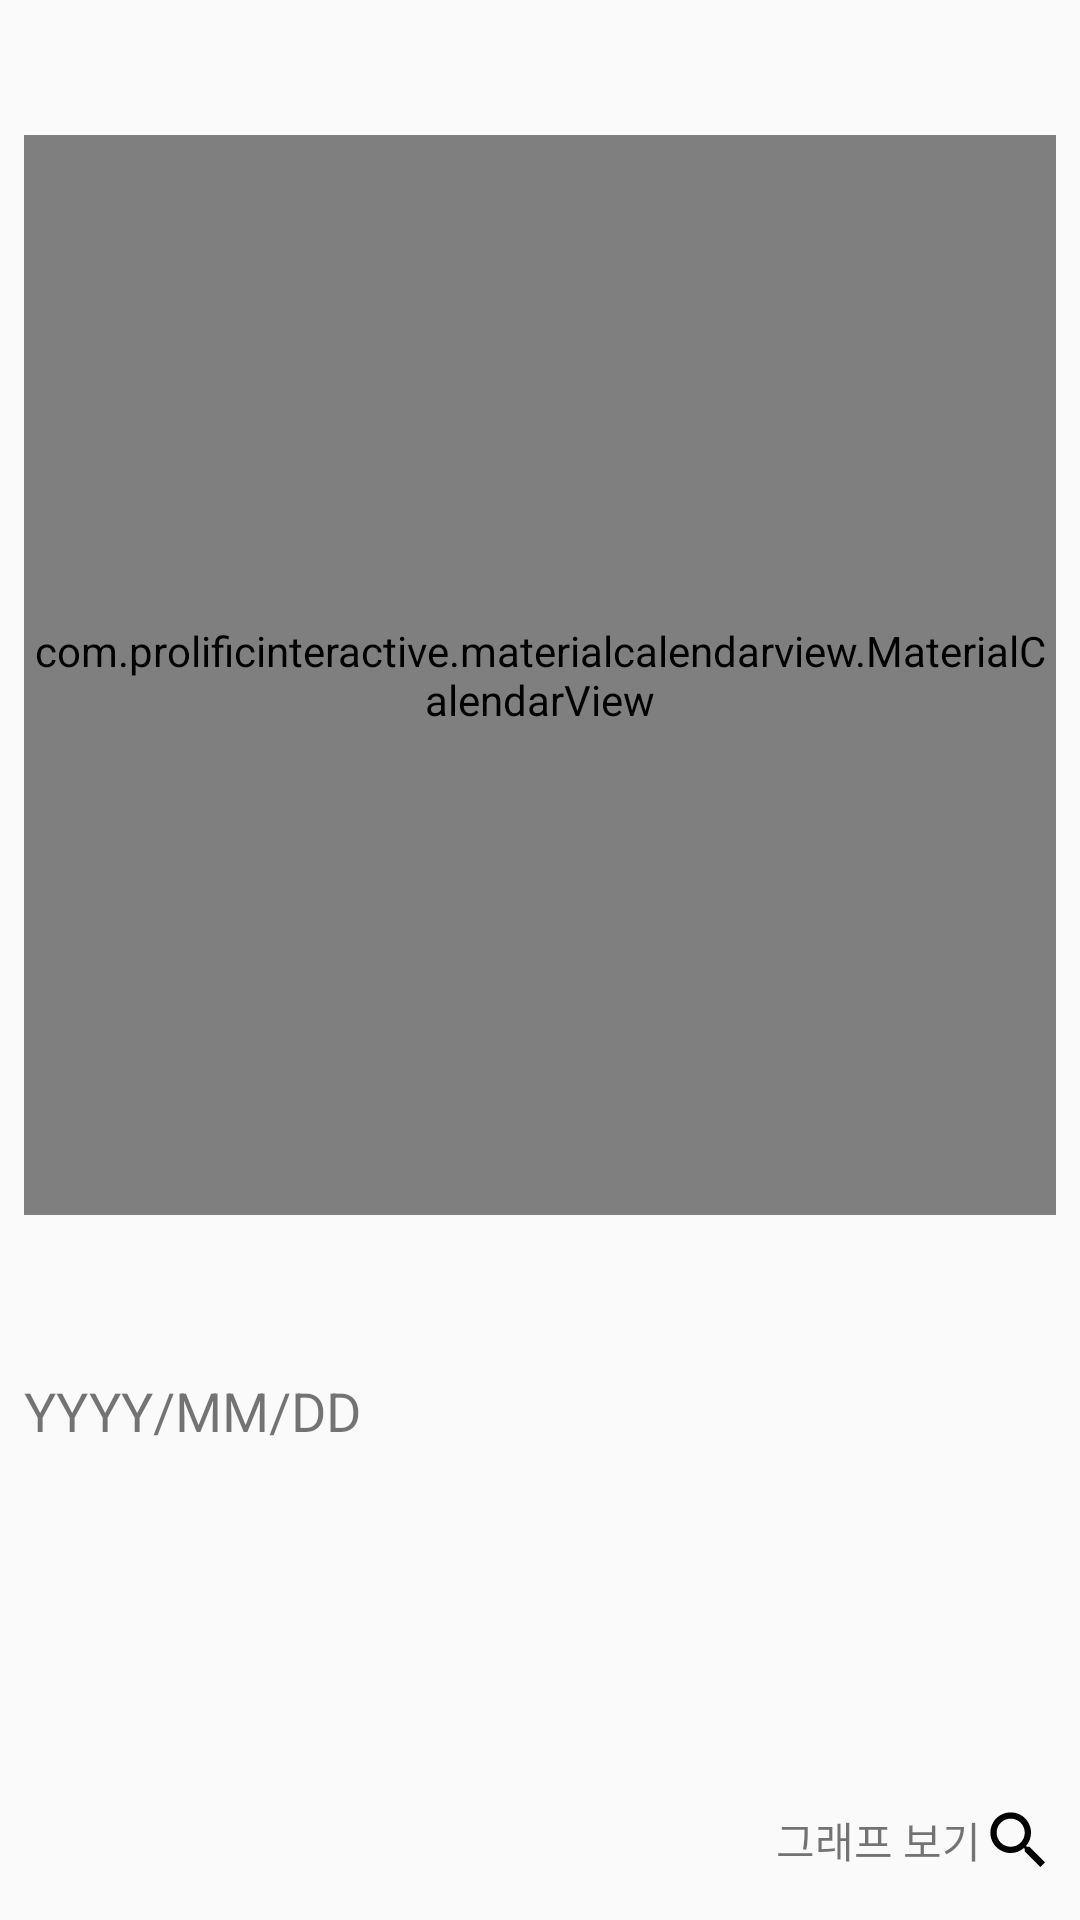

Screen size 1080w x 1920h. Icon name, then its center in pixels as point (x, y):
search: point (1017, 1839)
